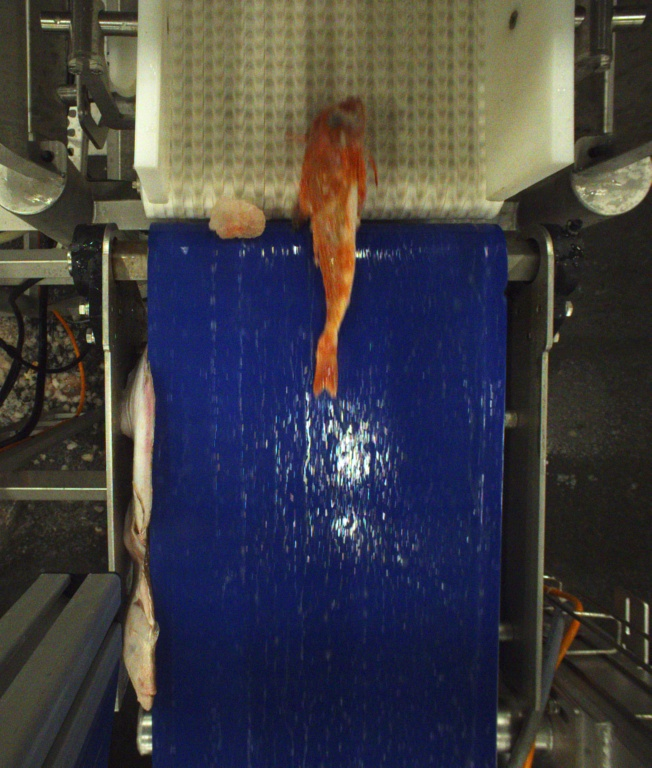GUU: (284, 93, 370, 400)
